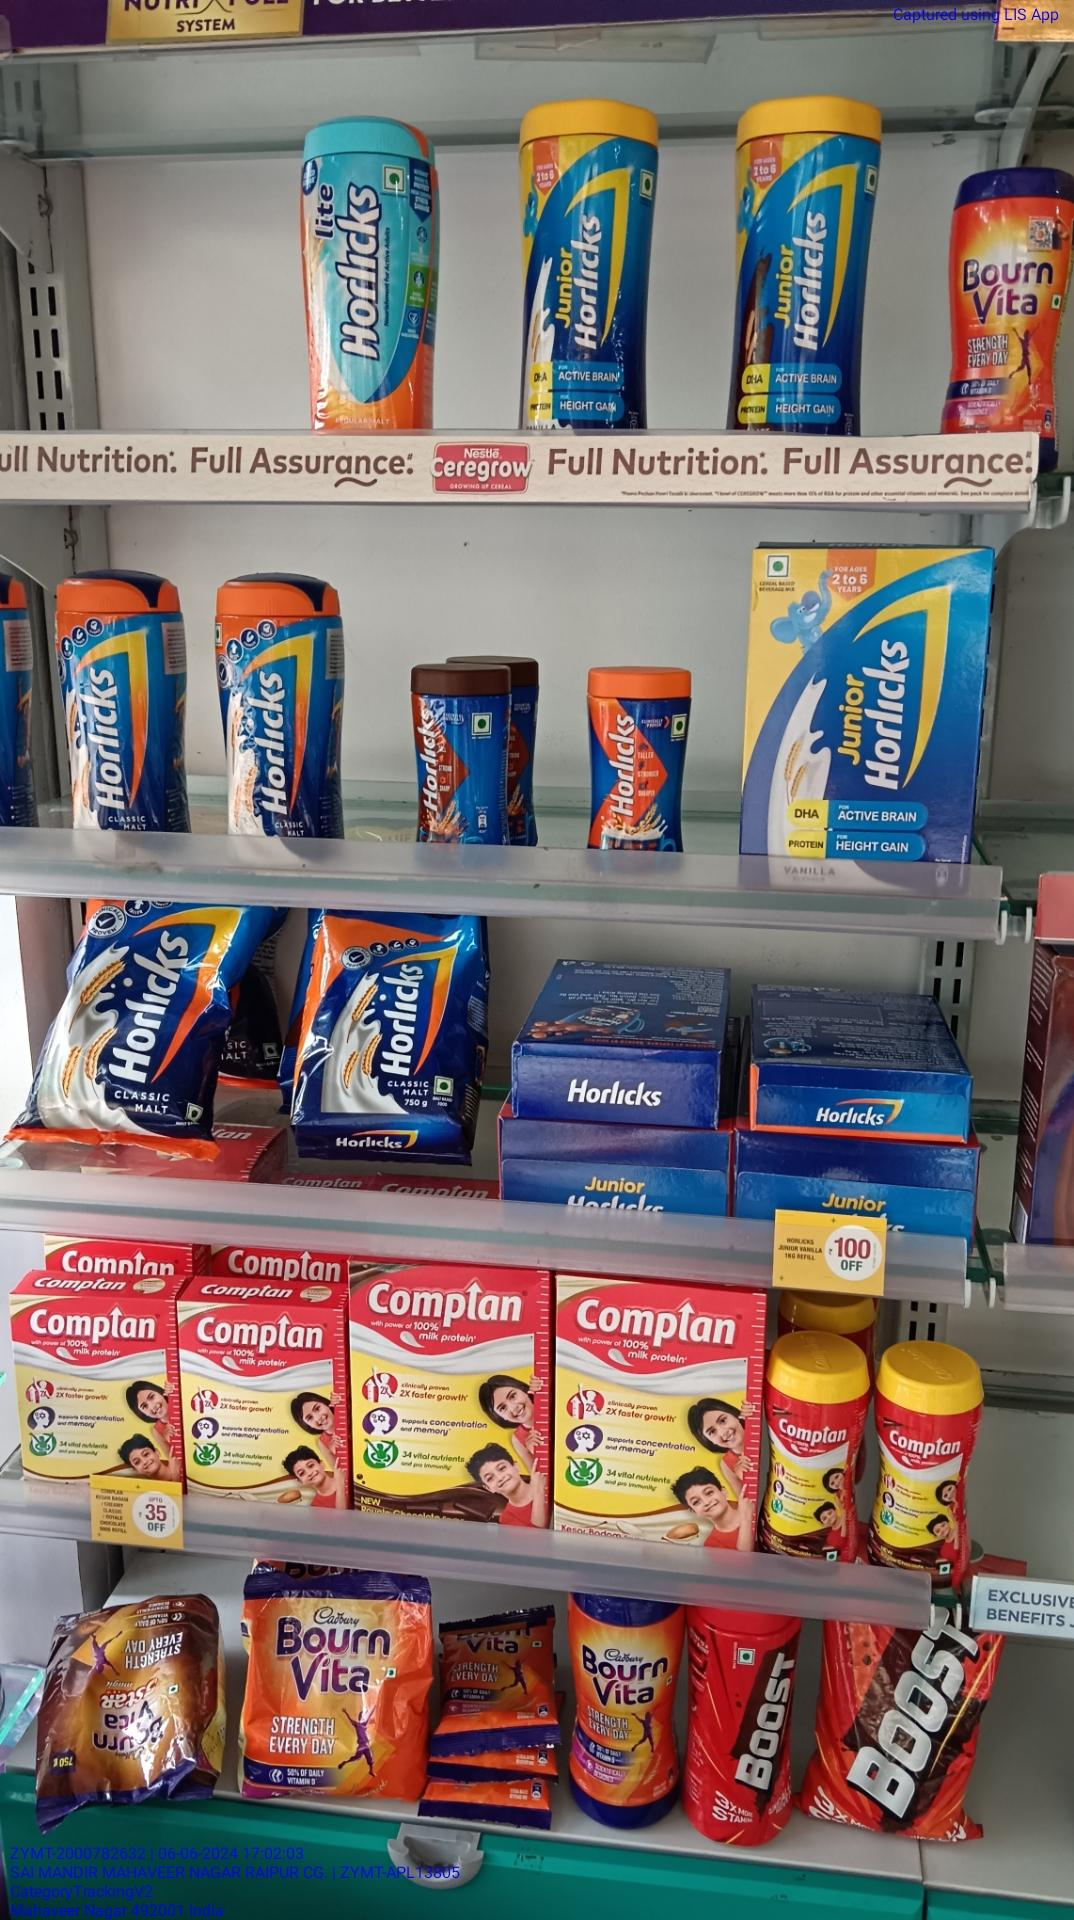BOURN_VITA_500_G_JAR: (937, 158, 1074, 439), (575, 1594, 687, 1828)
BOURN_VITA_500_G_POUCH: (241, 1576, 427, 1809)
COMPLAN_CHOCOLATE_500_GMS_JAR: (877, 1371, 972, 1590), (765, 1360, 856, 1577)
COMPLAN_CHOCOLATE_500_GMS_PACK: (350, 1262, 546, 1540)
COMPLAN_KESAR_BADAM_500_GMS_PACK: (553, 1276, 751, 1568), (179, 1300, 343, 1520), (13, 1294, 177, 1501)
HORLICKS_LITE_REGULAR_MALT_500_GM_JAR: (294, 116, 425, 434)
HORLICK_CHOCOLATE_200_G_JAR: (406, 659, 491, 855)
HORLICK_CLASSIC_MALT_200_G_JAR: (581, 674, 685, 877)
HORLICK_CLASSIC_MALT_500_G_JAR: (210, 572, 338, 872), (54, 567, 173, 861)
HORLICK_CLASSIC_MALT_750_G_POUCH: (65, 890, 239, 1131), (303, 911, 471, 1131)
